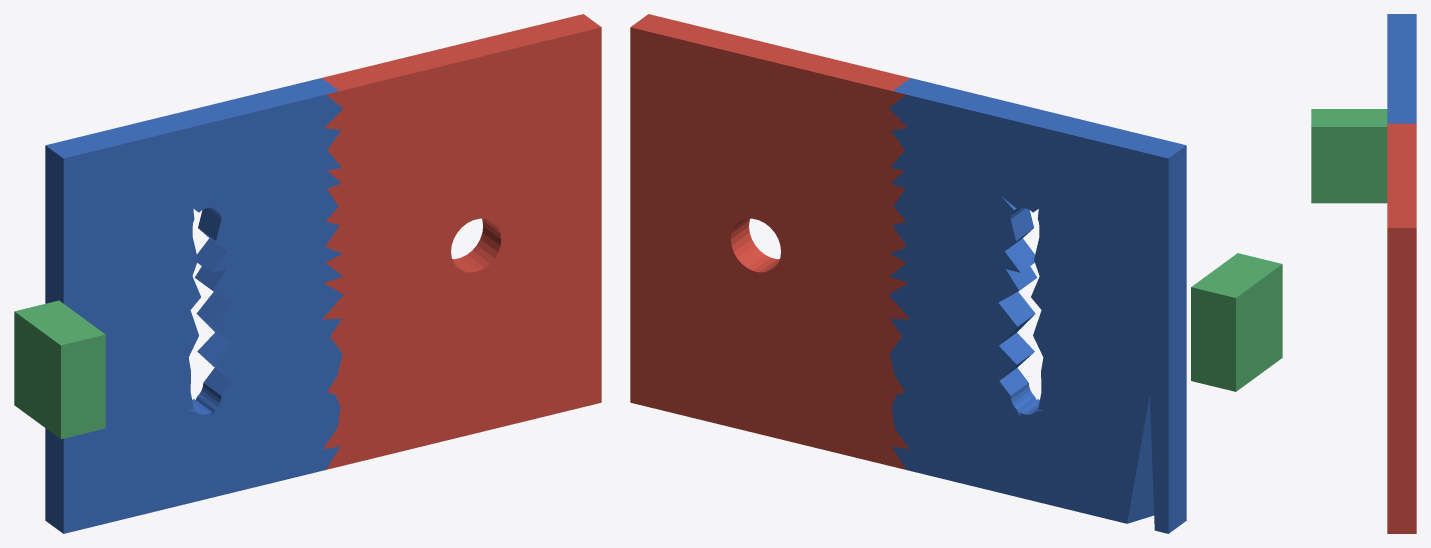
3 views of the same model, side by side, from view 1: azimuth 30°, elevation 25°; view 2: azimuth 150°, elevation 25°; view 3: azimuth 270°, elevation 25° (orthographic). The views are drawn at different scales.
Visible parts, largest first — view 1: plate, bracket; view 2: plate, bracket; view 3: plate, bracket.
Part boxes in pixels (x1=…): plate: x1=45, y1=14, x2=601, y2=533; bracket: x1=14, y1=300, x2=105, y2=439; plate: x1=630, y1=14, x2=1186, y2=533; bracket: x1=1191, y1=253, x2=1282, y2=391; plate: x1=1387, y1=14, x2=1416, y2=533; bracket: x1=1311, y1=109, x2=1387, y2=203.
Size of the model in its own units: 6.55 by 4 by 1.25.
